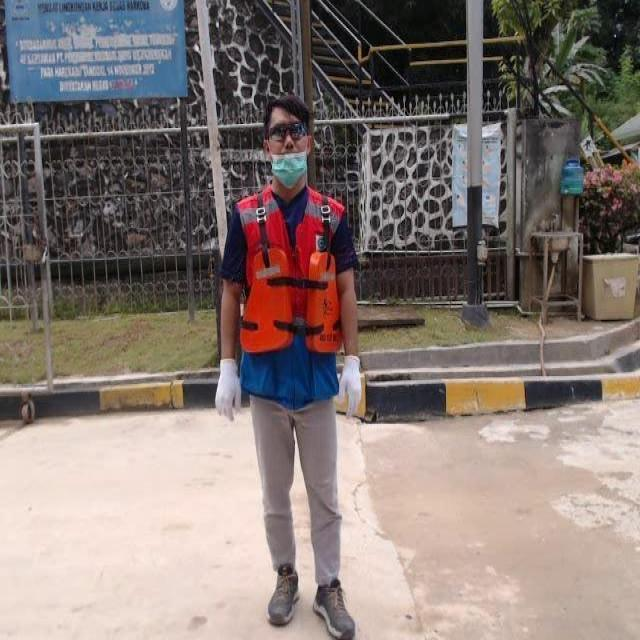Vest: (240, 248, 343, 353)
